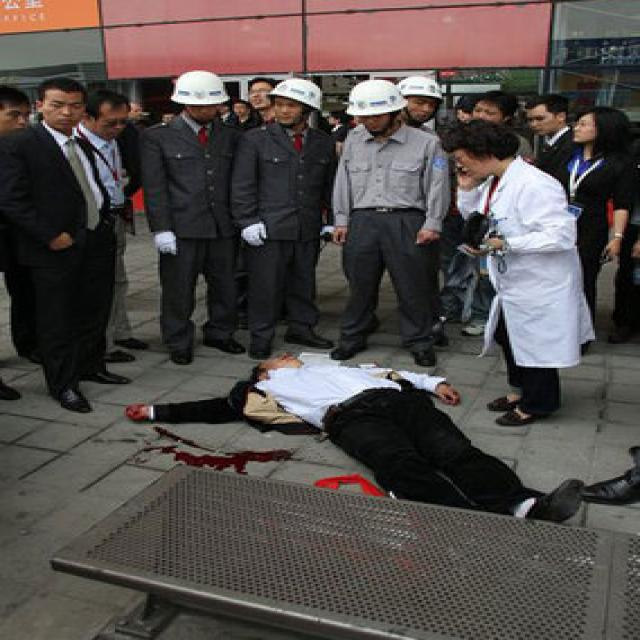10-: (2, 54, 638, 550)
down: (126, 342, 595, 544)
